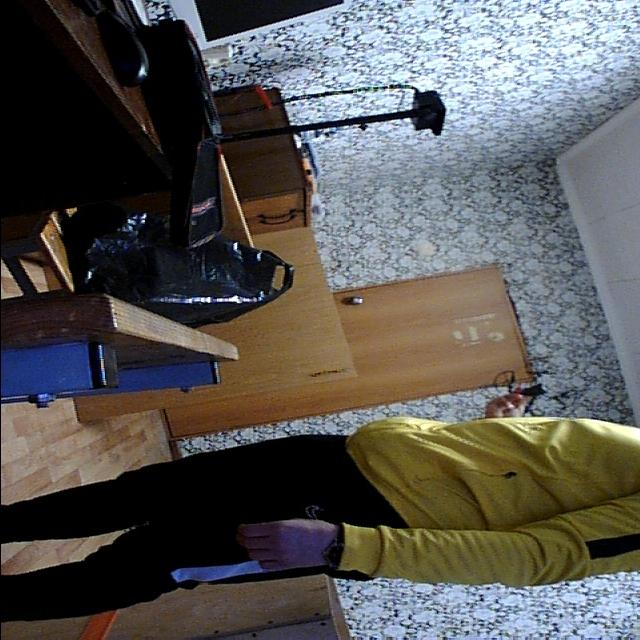drone: (482, 362, 558, 421)
